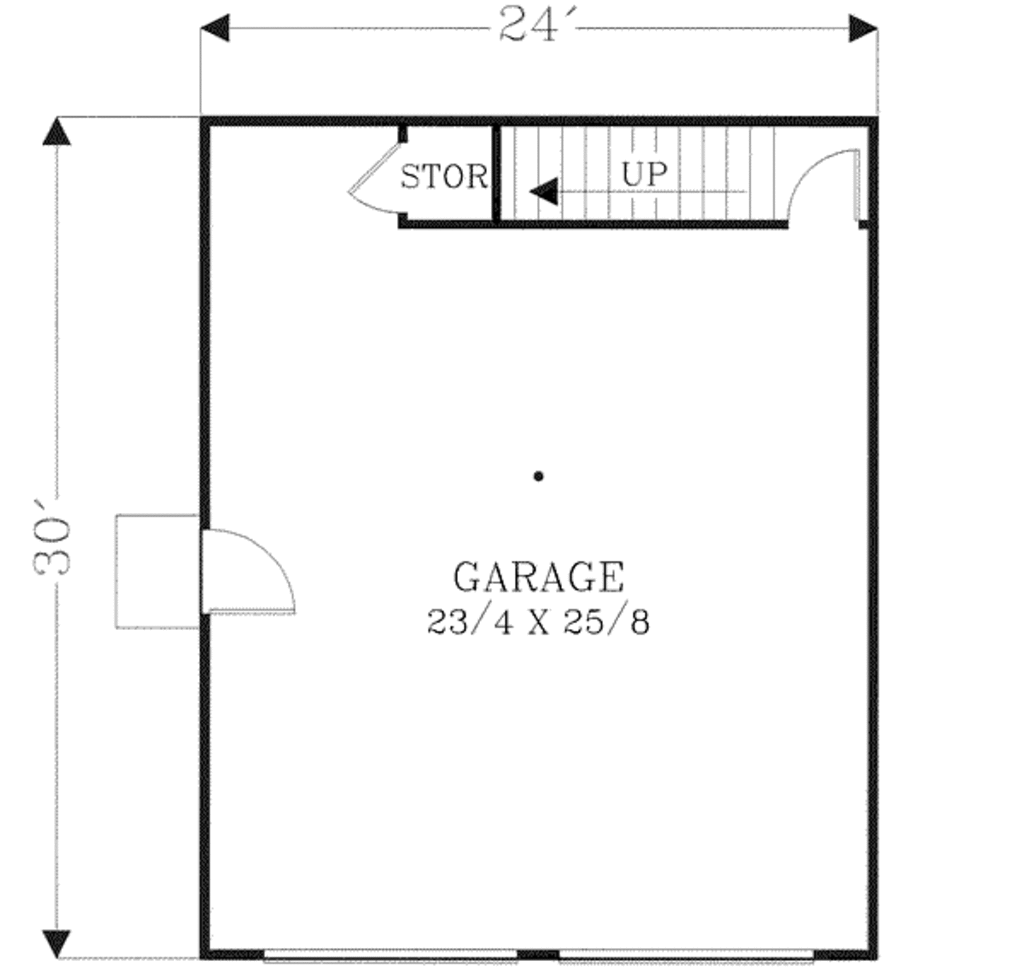door: (197, 516, 300, 623), (789, 131, 868, 235), (337, 137, 424, 221)
stairs: (496, 129, 783, 232)
window: (267, 929, 525, 966), (555, 938, 833, 966)
